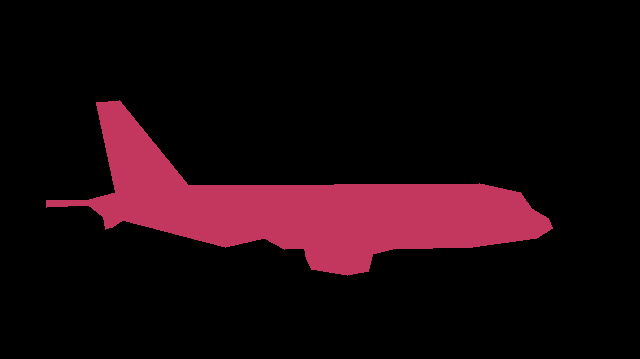Airplane: (46, 100, 553, 276)
